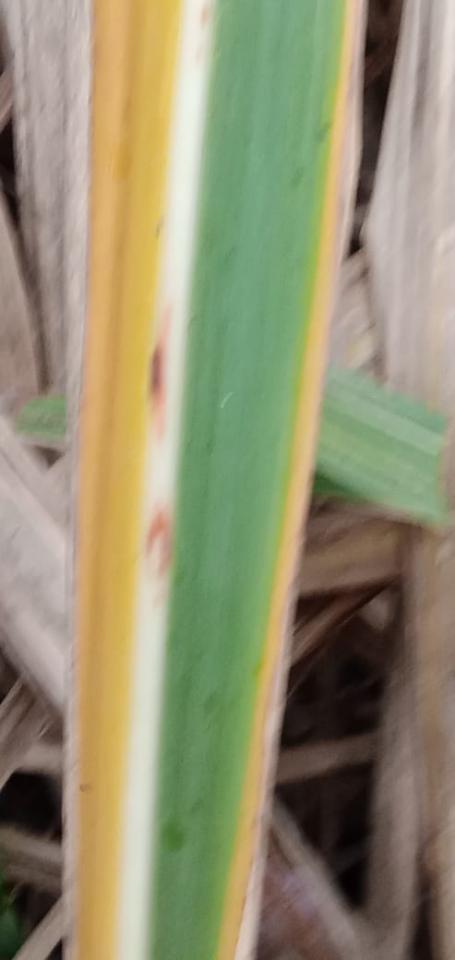RedRot: (146, 303, 177, 441), (148, 507, 170, 585)
Yellow: (216, 0, 361, 959), (62, 0, 189, 959)
